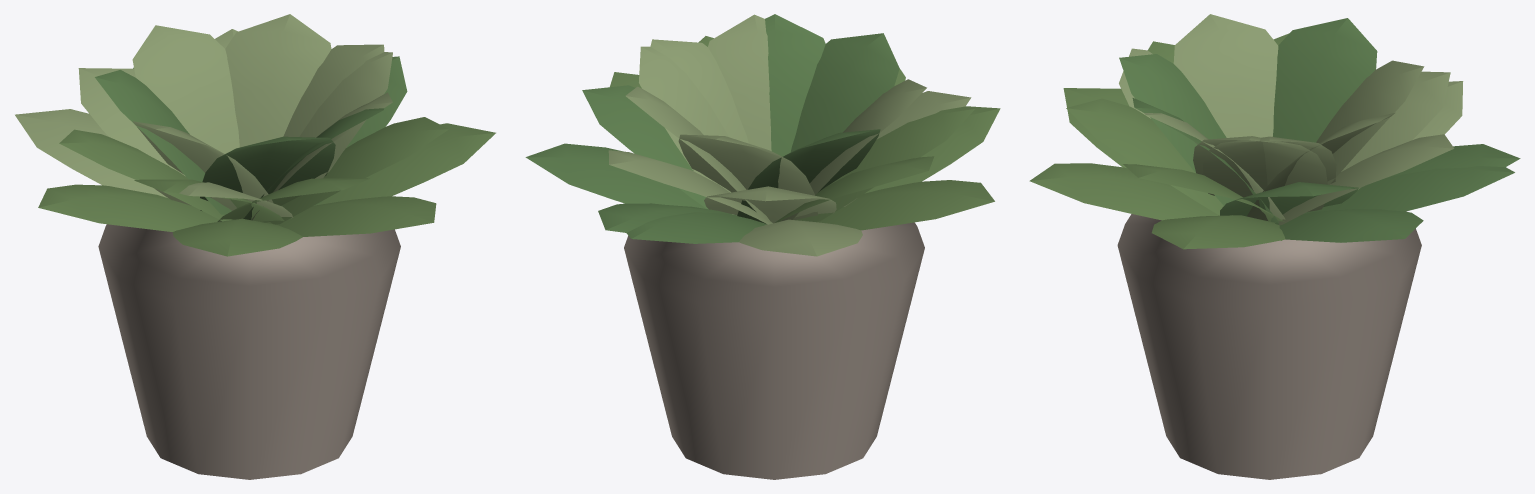
Rendered from potted_succulent.glb.
The picture shows the model from 3 angles, left to right: view 1: azimuth 30°, elevation 25°; view 2: azimuth 150°, elevation 25°; view 3: azimuth 270°, elevation 25°; orthographic projection.
Parts seen in each view (by area): view 1: veg_potted_succulent_lod0; view 2: veg_potted_succulent_lod0; view 3: veg_potted_succulent_lod0.
Boxes of the visible parts, x1,y1,x2,y2 form: veg_potted_succulent_lod0: [15, 14, 495, 479]; veg_potted_succulent_lod0: [525, 14, 1000, 479]; veg_potted_succulent_lod0: [1029, 14, 1520, 479].
Size of what is drawn, in the model's own units: 0.8345 by 0.681 by 0.8396.
